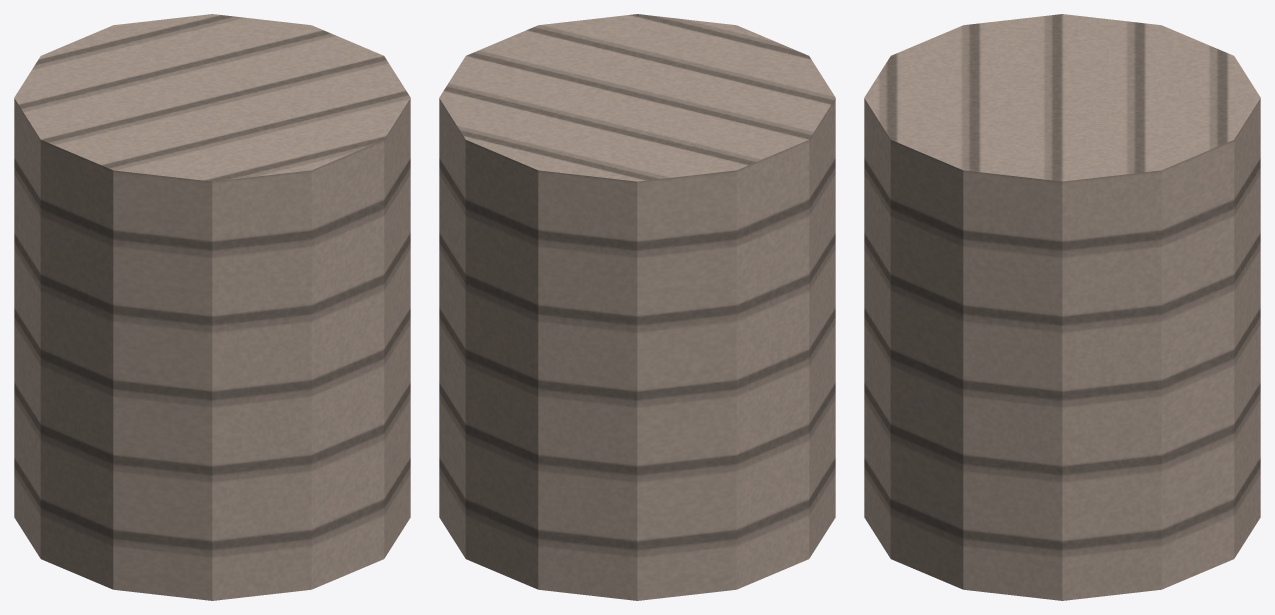
Rendered from period_barrel.glb.
The picture shows the model from 3 angles, left to right: view 1: azimuth 30°, elevation 25°; view 2: azimuth 150°, elevation 25°; view 3: azimuth 270°, elevation 25°; orthographic projection.
Visible parts, largest first — view 1: period_barrel-col; view 2: period_barrel-col; view 3: period_barrel-col.
Part boxes in pixels (x1,y1,x2,y2): period_barrel-col: [14, 14, 410, 600]; period_barrel-col: [439, 14, 835, 600]; period_barrel-col: [864, 14, 1260, 600].
Size of the model in its own units: 0.6 by 0.7 by 0.6.
Materials: 1 (1 with a texture image).
